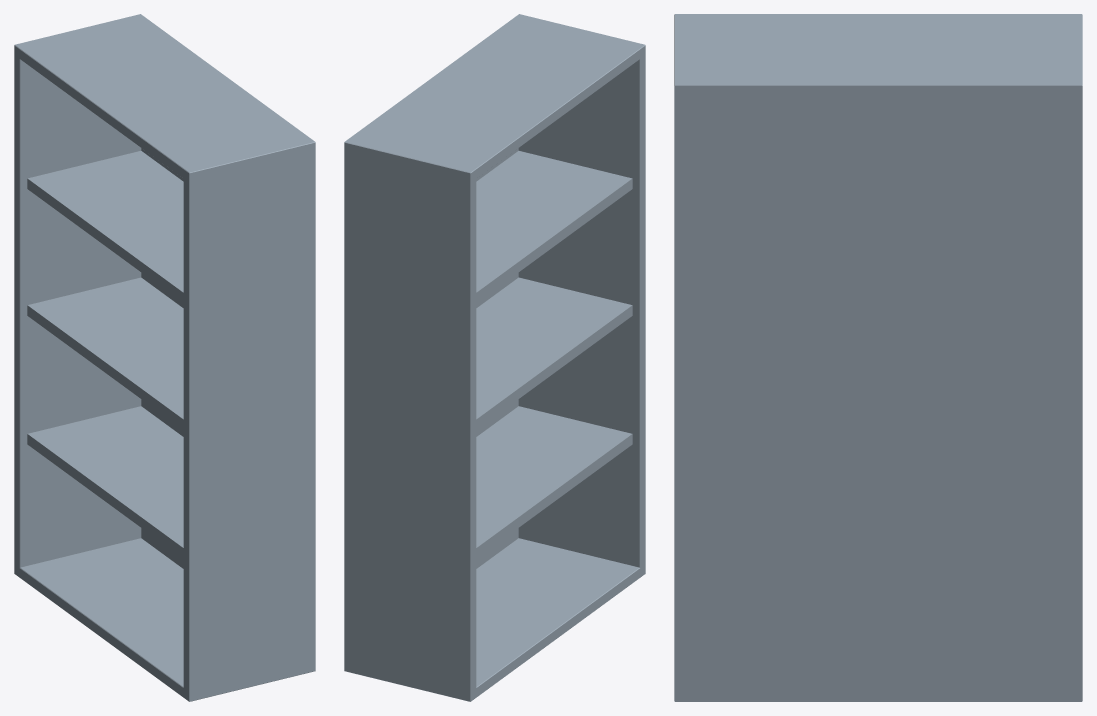
File: Cupboard.fbx
3 renders of one model, left to right at view 1: azimuth 30°, elevation 25°; view 2: azimuth 150°, elevation 25°; view 3: azimuth 270°, elevation 25°, orthographic. The views are drawn at different scales.
Parts seen in each view (by area): view 1: Cupboard; view 2: Cupboard; view 3: Cupboard.
Part boxes in pixels (<box>): Cupboard: <box>14,14,315,701</box>; Cupboard: <box>344,14,645,701</box>; Cupboard: <box>674,14,1082,701</box>.
Size of the model in its own units: 50 by 200 by 120.
